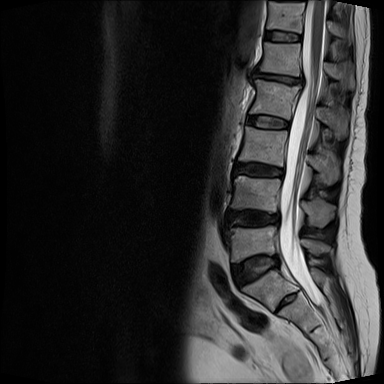Degenerative Disc Disease (DDD): (228, 156, 288, 182), (245, 69, 309, 90)
Lumbar Disc Bulge (LDB): (227, 251, 286, 291), (220, 204, 286, 235), (241, 66, 310, 95)
Normal IVD: (242, 110, 294, 134), (257, 29, 304, 47)
Spinal Stenosis (SS): (264, 203, 289, 235)
Spondylolisthesis: (218, 248, 295, 300)
